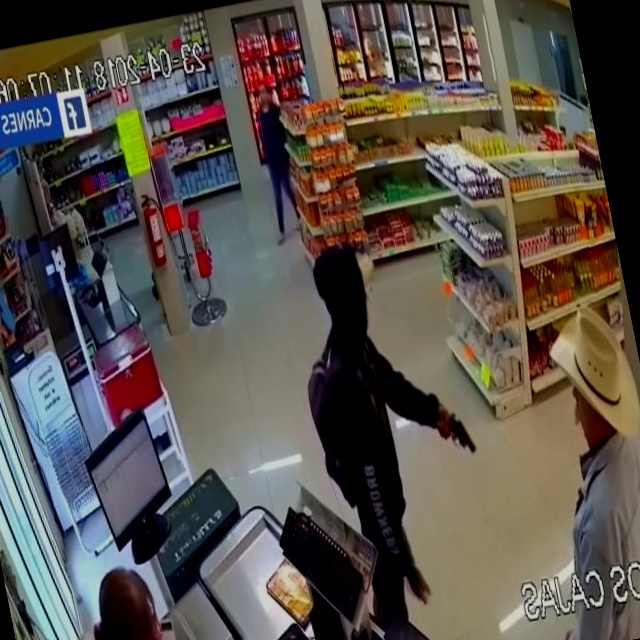gun: (433, 383, 485, 477)
